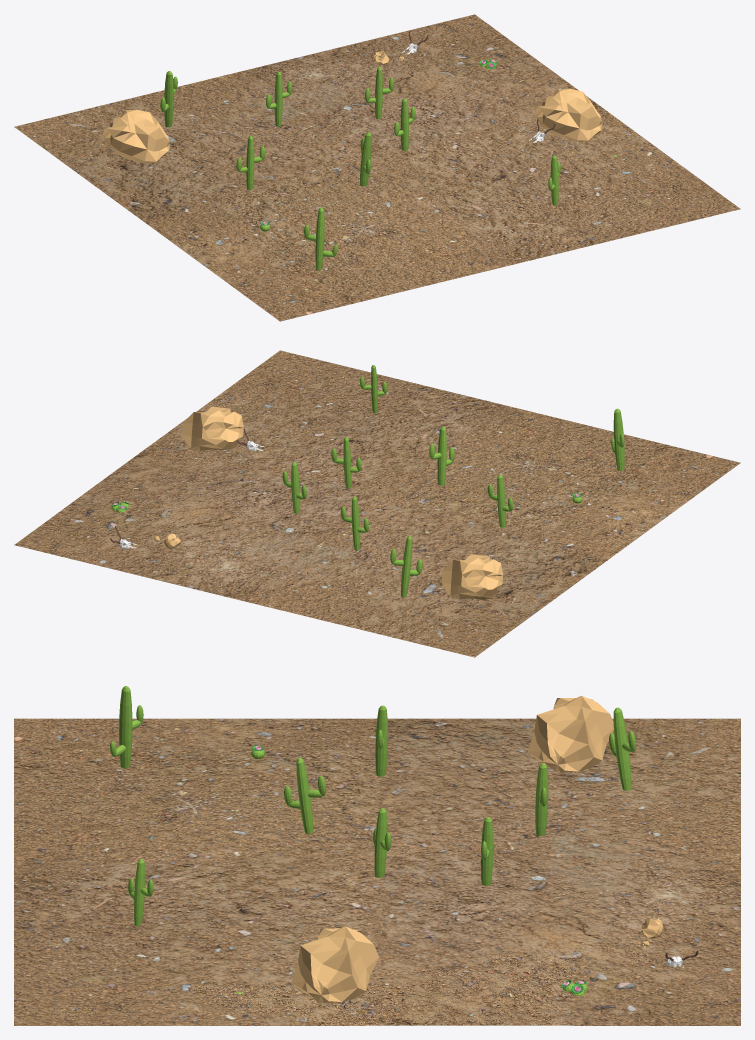
File: SSSS2.fbx
3 views of the same model, one above another, from view 1: azimuth 30°, elevation 25°; view 2: azimuth 150°, elevation 25°; view 3: azimuth 270°, elevation 25° (orthographic). The views are drawn at different scales.
Parts seen in each view (by area): view 1: Plane, group1446250878.001, group1446250878, group1910377098.002, group1910377098.004, group1305359395.001, group1910377098.003, group1910377098.001, group1305359395, group809628526; view 2: Plane, group1446250878.001, group1446250878, group1305359395.001, group1305359395, group1910377098.002, group1910377098.004, group1910377098.001, group1910377098.003, group809628526; view 3: Plane, group1446250878, group1446250878.001, group1305359395, group1305359395.001, group809628526, group1910377098.001, group1910377098, group1910377098.002, group1910377098.004, group1910377098.003.
Part boxes in pixels (x1=…): Plane: x1=14, y1=14, x2=740, y2=321; group1446250878.001: x1=103, y1=109, x2=170, y2=163; group1446250878: x1=535, y1=88, x2=602, y2=141; group1910377098.002: x1=266, y1=71, x2=292, y2=126; group1910377098.004: x1=236, y1=135, x2=265, y2=189; group1305359395.001: x1=160, y1=71, x2=177, y2=127; group1910377098.003: x1=365, y1=66, x2=394, y2=118; group1910377098.001: x1=394, y1=98, x2=415, y2=150; group1305359395: x1=360, y1=132, x2=371, y2=186; group809628526: x1=315, y1=207, x2=324, y2=270; Plane: x1=14, y1=350, x2=740, y2=657; group1446250878.001: x1=441, y1=554, x2=503, y2=599; group1446250878: x1=182, y1=406, x2=243, y2=450; group1305359395.001: x1=390, y1=535, x2=422, y2=597; group1305359395: x1=429, y1=426, x2=454, y2=485; group1910377098.002: x1=340, y1=496, x2=368, y2=550; group1910377098.004: x1=487, y1=474, x2=513, y2=527; group1910377098.001: x1=331, y1=437, x2=361, y2=488; group1910377098.003: x1=282, y1=462, x2=306, y2=513; group809628526: x1=613, y1=408, x2=624, y2=470; Plane: x1=14, y1=718, x2=740, y2=1025; group1446250878: x1=291, y1=926, x2=379, y2=1003; group1446250878.001: x1=527, y1=695, x2=613, y2=772; group1305359395: x1=284, y1=757, x2=326, y2=833; group1305359395.001: x1=609, y1=707, x2=635, y2=790; group809628526: x1=119, y1=686, x2=132, y2=768; group1910377098.001: x1=373, y1=808, x2=391, y2=877; group1910377098: x1=128, y1=859, x2=153, y2=926; group1910377098.002: x1=535, y1=763, x2=548, y2=835; group1910377098.004: x1=375, y1=705, x2=387, y2=776; group1910377098.003: x1=480, y1=817, x2=494, y2=885.
Size of the model in its own units: 500 by 71.49 by 500.
